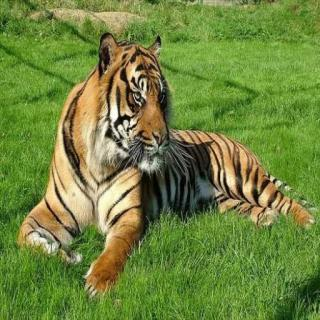Tiger: (11, 23, 320, 300)
